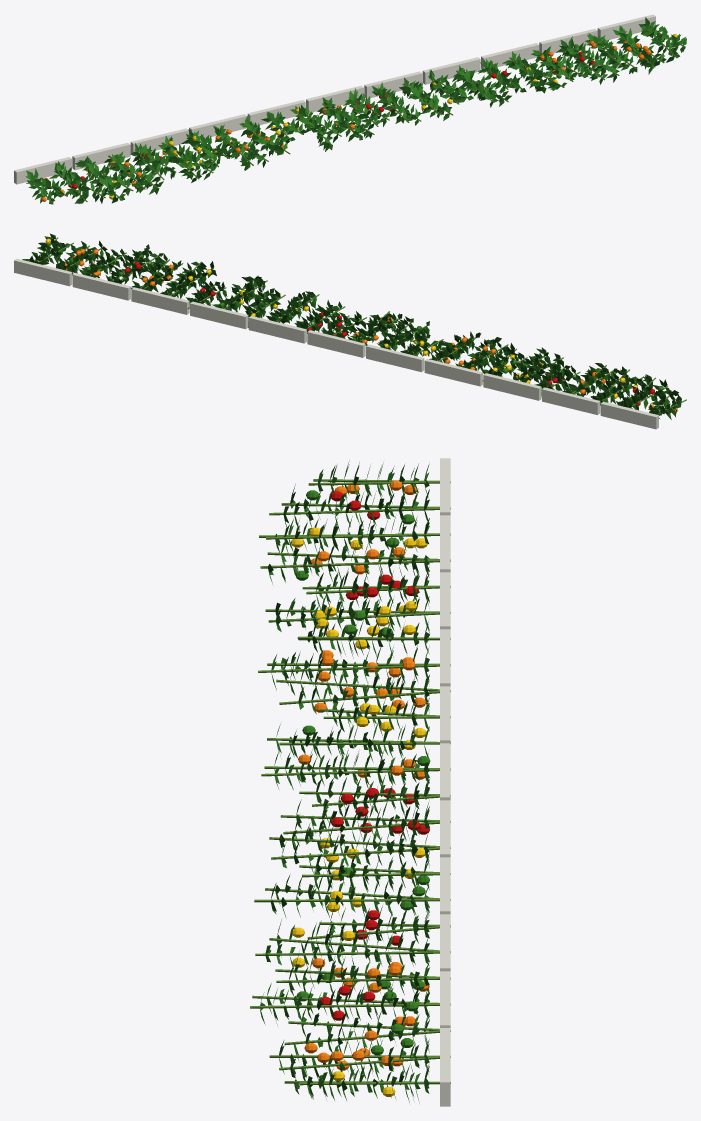
File: row22.obj
The picture shows the model from 3 angles, top to bottom: view 1: azimuth 30°, elevation 25°; view 2: azimuth 150°, elevation 25°; view 3: azimuth 270°, elevation 25°; orthographic projection. The views are drawn at different scales.
Visible parts, largest first — view 1: row22; view 2: row22; view 3: row22.
Boxes of the visible parts, x1,y1,x2,y2 form: row22: (14, 14, 686, 204); row22: (14, 233, 686, 429); row22: (250, 458, 450, 1106).
Bounding box in the file's own units: 10.99 × 0.4311 × 1.49.
